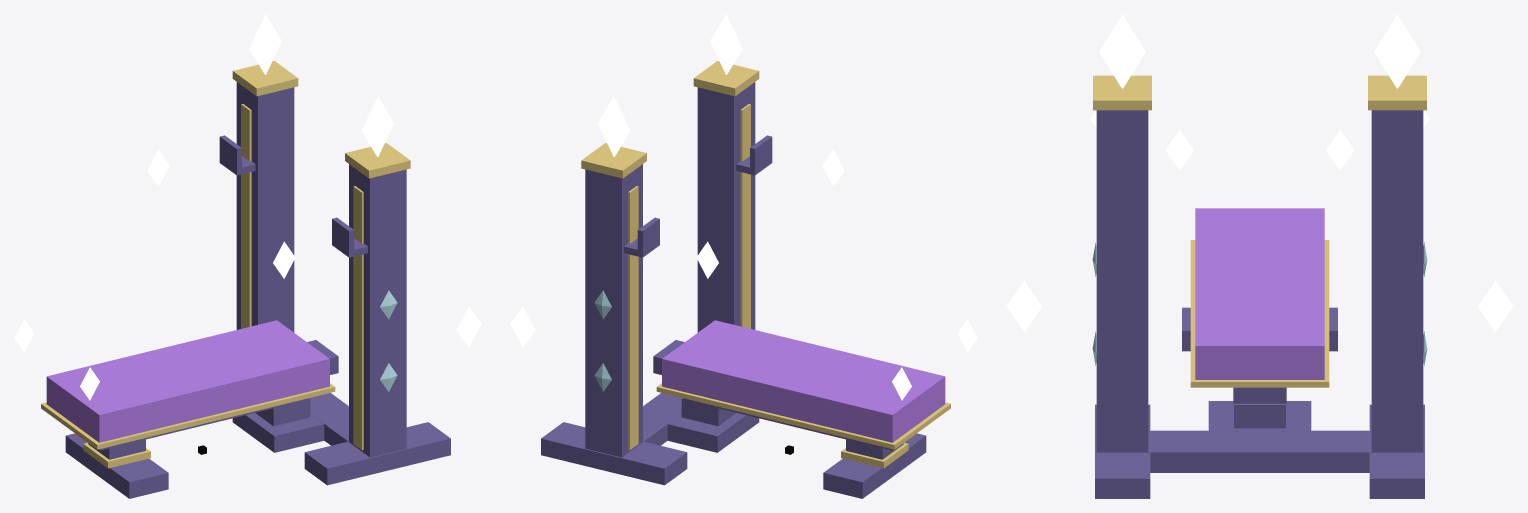
The model's file is Cosmic_Bench.fbx.
The picture shows the model from 3 angles, left to right: view 1: azimuth 30°, elevation 25°; view 2: azimuth 150°, elevation 25°; view 3: azimuth 270°, elevation 25°; orthographic projection. The views are drawn at different scales.
Parts seen in each view (by area): view 1: Cosmic_Frame, Cosmic_Pad, Cosmic_Trim, Cosmic_Crystals, Cosmic_Float1, Cosmic_Runes; view 2: Cosmic_Frame, Cosmic_Pad, Cosmic_Trim, Cosmic_Crystals, Cosmic_Float4, Cosmic_Runes; view 3: Cosmic_Frame, Cosmic_Pad, Cosmic_Trim, Cosmic_Crystals, Cosmic_Float1, Cosmic_Float4, Cosmic_Float2, Cosmic_Float5.
Part boxes in pixels (x1,y1,x2,y2): Cosmic_Frame: (65,82,450,498); Cosmic_Pad: (46,320,329,442); Cosmic_Trim: (41,61,410,468); Cosmic_Crystals: (249,14,393,156); Cosmic_Float1: (456,306,481,347); Cosmic_Runes: (380,290,397,391); Cosmic_Frame: (541,82,926,498); Cosmic_Pad: (662,320,945,442); Cosmic_Trim: (581,61,950,468); Cosmic_Crystals: (598,14,742,156); Cosmic_Float4: (510,306,535,347); Cosmic_Runes: (594,290,611,391); Cosmic_Frame: (1095,110,1424,498); Cosmic_Pad: (1195,208,1324,379); Cosmic_Trim: (1093,75,1426,387); Cosmic_Crystals: (1099,14,1420,88); Cosmic_Float1: (1006,281,1041,331); Cosmic_Float4: (1478,281,1513,331); Cosmic_Float2: (1165,129,1193,170); Cosmic_Float5: (1326,129,1354,170).
Size of the model in its own units: 6 by 6.25 by 6.36.
